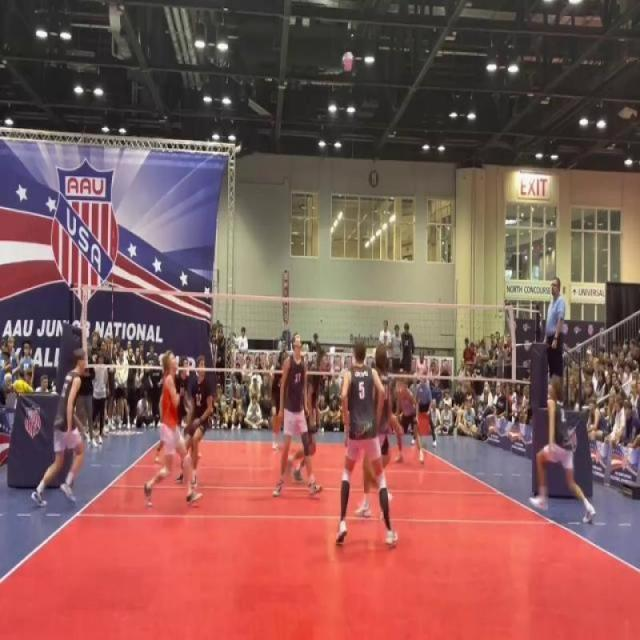volleyball: (341, 50, 356, 74)
